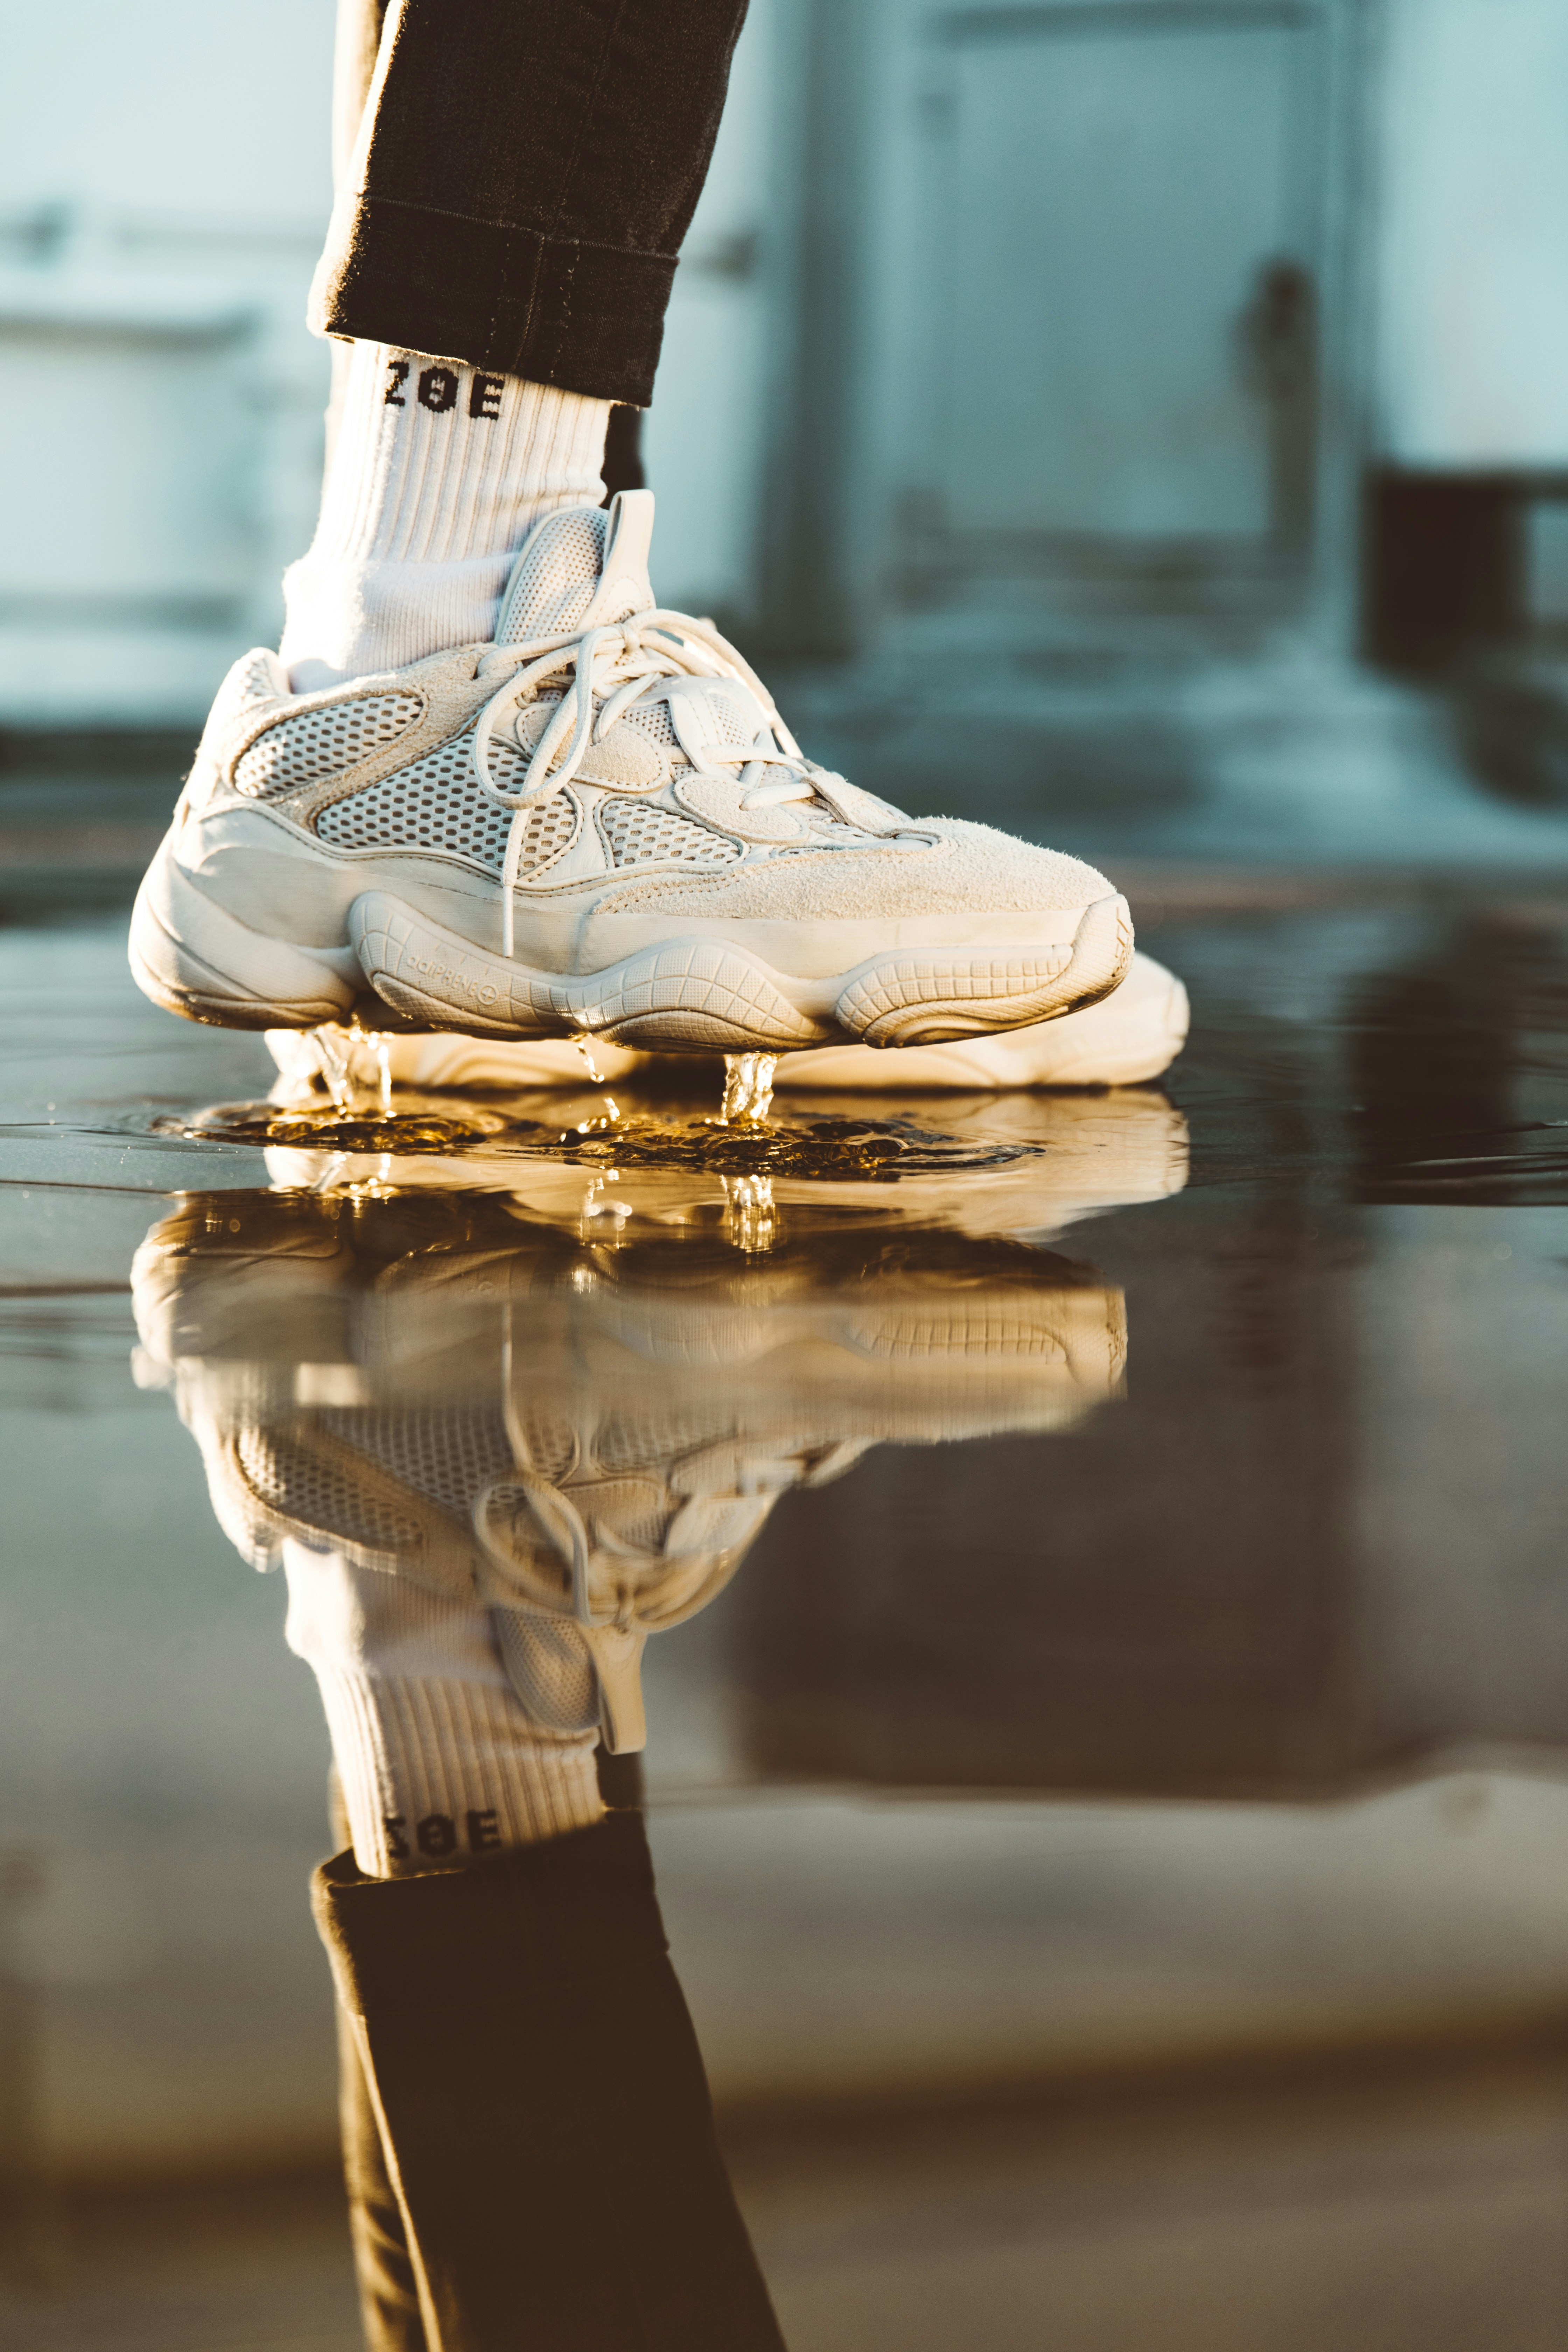Footwear: (86, 507, 1155, 1055)
